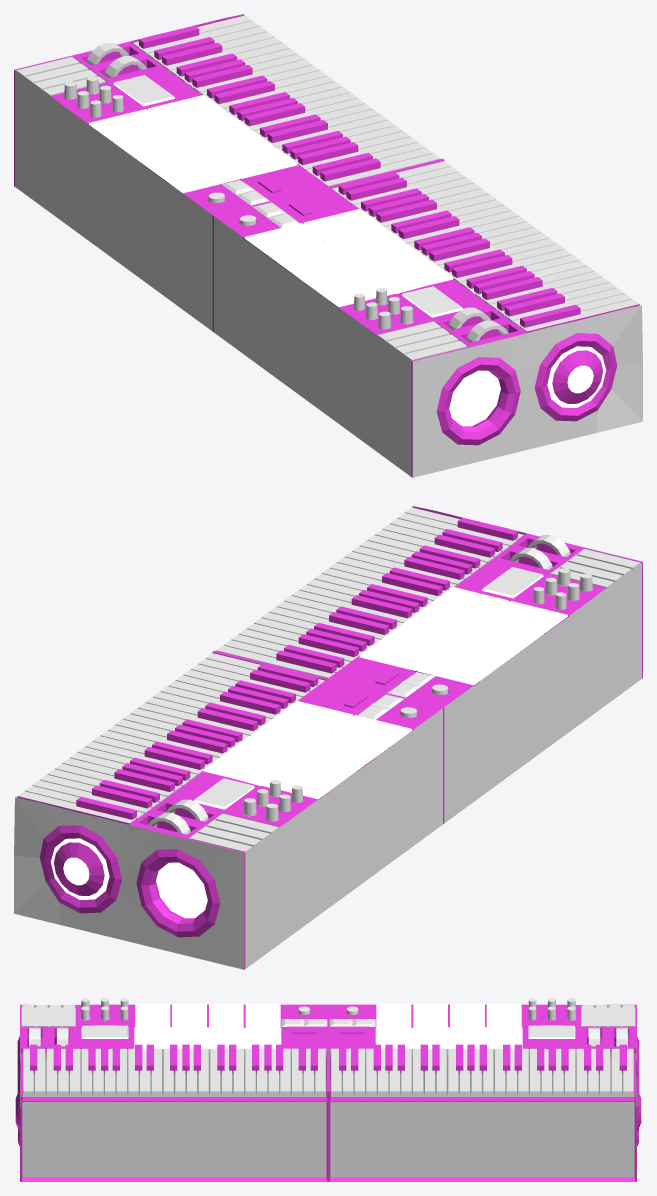
File: 2-lead-synth2.glb
3 renders of one model, top to bottom at view 1: azimuth 30°, elevation 25°; view 2: azimuth 150°, elevation 25°; view 3: azimuth 270°, elevation 25°, orthographic. The views are drawn at different scales.
Visible parts, largest first — view 1: Cube.003; view 2: Cube.003; view 3: Cube.003.
Part boxes in pixels (x1=…): Cube.003: x1=14, y1=14, x2=642, y2=477; Cube.003: x1=14, y1=506, x2=642, y2=969; Cube.003: x1=14, y1=998, x2=642, y2=1181.
Bounding box in the file's own units: 1.35 × 0.7239 × 4.12.
